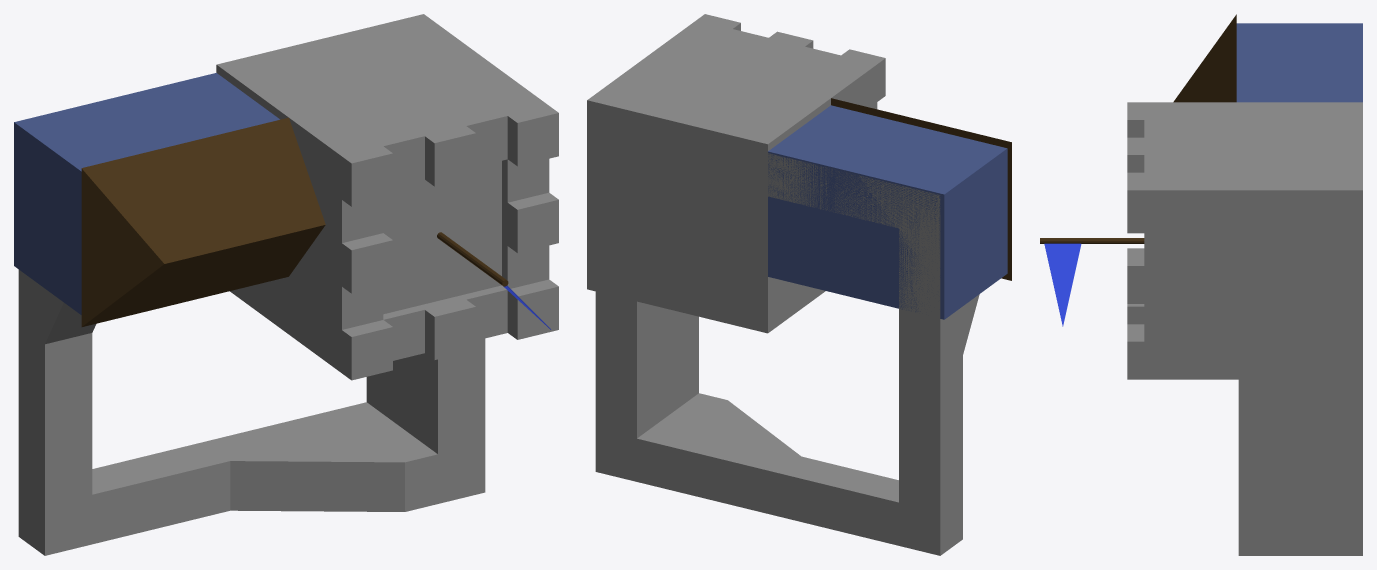
Rendered from barracks_blue.glb.
The picture shows the model from 3 angles, left to right: view 1: azimuth 30°, elevation 25°; view 2: azimuth 150°, elevation 25°; view 3: azimuth 270°, elevation 25°; orthographic projection. The views are drawn at different scales.
Visible parts, largest first — view 1: Cube.002, Cube.001, Cube.004, Cube.003, Cylinder.003; view 2: Cube.001, Cube.002, Cube.003, Cube.004; view 3: Cube.002, Cube.001, Cube.003, Cube.004, Cube.005, Cylinder.003.
Boxes of the visible parts, x1,y1,x2,y2 form: Cube.002: (216,14,558,380); Cube.001: (18,269,485,555); Cube.004: (81,117,325,326); Cube.003: (14,73,279,314); Cylinder.003: (437,232,508,286); Cube.001: (595,111,979,555); Cube.002: (587,14,885,333); Cube.003: (768,105,1007,319); Cube.004: (831,98,1011,280); Cube.002: (1127,102,1362,379); Cube.001: (1238,379,1362,555); Cube.003: (1236,23,1362,102); Cube.004: (1173,14,1236,102); Cube.005: (1044,243,1081,326); Cylinder.003: (1040,238,1144,243).
Size of the model in its own units: 4 by 3.91 by 3.09.
